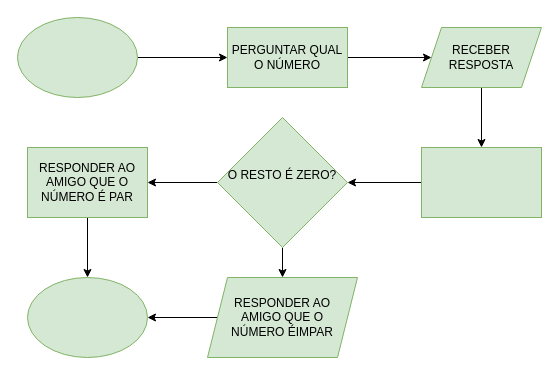
The diagram is 559 pixels wide and 375 high, and some of its shapes have lost their labels. Each missing label, with the centre of its shape:
"CALCULAR O RESTO DA DIVISAO DO NÚMERO POR 2" belongs at [481,182].
"FIM" belongs at [87,317].
"INICIO" belongs at [77,57].
